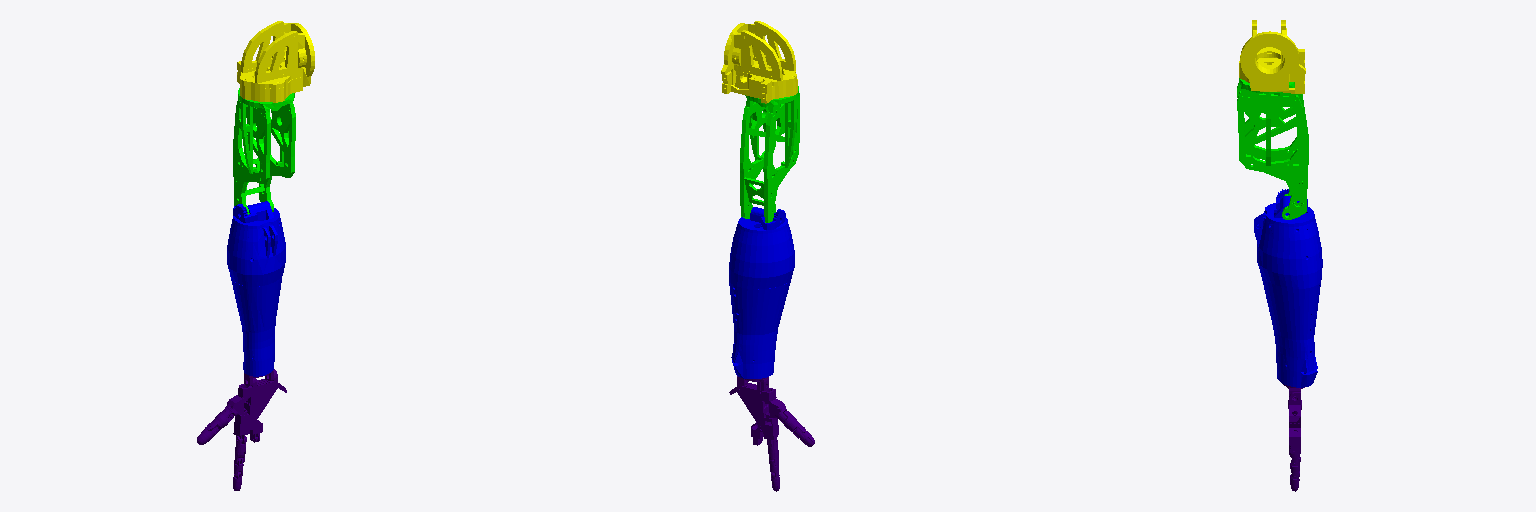
The robot description file, URDF, robot "inmoov_v1":
<?xml version="1.0"?>
<robot name="inmoov_v1">
  <!--  -->

  <!-- Materials -->
  <material name="red">
    <color rgba="1 0 0 .8"/>
  </material>
  <material name="orange">
    <color rgba="1 .5 0 .8"/>
  </material>
  <material name="yellow">
    <color rgba="1 1 0 .8"/>
  </material>
  <material name="green">
    <color rgba="0 1 0 .8"/>
  </material>
  <material name="blue">
    <color rgba="0 0 1 .8"/>
  </material>
  <material name="indigo">
    <color rgba=".294 0 .510 .8"/>
  </material>
  <material name="violet">
    <color rgba=".561 0 1 .8"/>
  </material>
  <!-- Variables  -->
  <property name="pi" value="3.1415926"/>  
  <property name="pi" value="3.1415926"/> 
  <property name="mesh_scale" value=".001"/>  
  <!-- Body Parts -->
  <!-- Base -->
  <link name="base_link">
    <visual>
      <origin rpy="0 0 0" xyz="0 0 0"/>
      <geometry>
        <mesh filename="package://robohand/meshes/Inmoov_Baselink_02.STL" 
         scale=".001 .001 .001"/>
      </geometry>
      <material name="red"/>
    </visual>
    <collision>
      <geometry>
        <box size=".4 .1 .1"/>
      </geometry>
    </collision>
  </link>
  <!-- 1st shoulder part - up/down -->
  <link name="shoulder_a_link">
    <visual>
      <origin rpy="0 0 0" xyz="0 0 0"/>
      <geometry>
        <!--<box size=".05 .1 .1"/>-->
        <mesh filename="package://robohand/meshes/Inmoov_ShoulderA_02.STL" 
         scale=".001 .001 .001"/>
      </geometry>      
      <material name="orange"/>
    </visual>
    <collision>
      <geometry>
        <box size=".045 .095 .095"/>
      </geometry>
    </collision>
  </link>
  <joint name="arm_out_joint" type="revolute">
    <axis xyz="0 1 0"/>
    <origin rpy="0 0 0" xyz="0 0 0"/>
    <limit effort="1000.0" lower="0.0" upper="1.57" velocity="0.5"/>
    <parent link="base_link"/>
    <child link="shoulder_a_link"/>
  </joint>
  <!-- 2nd shoulder part - fwd/back -->
  <link name="shoulder_b_link">
    <visual>
      <origin rpy="0 0 0" xyz="0 0 0"/>
      <geometry>
        <!--<box size=".1 .1 .1"/>-->
        <mesh filename="package://robohand/meshes/Inmoov_ShoulderB_02.STL" 
         scale=".001 .001 .001"/>
      </geometry>      
      <material name="yellow"/>
    </visual>
    <collision>
      <geometry>
        <box size=".095 .095 .095"/>
      </geometry>
    </collision>
  </link>
  <joint name="arm_fwd_joint" type="revolute">
    <axis xyz="-1 0 0"/>
    <origin rpy="0 0 0" xyz="0 0 0"/>
    <limit effort="1000.0" lower="0.0" upper="1.57" velocity="0.5"/>
    <parent link="shoulder_a_link"/>
    <child link="shoulder_b_link"/>
  </joint>
  <!-- biceps -->
  <link name="biceps_link">
    <visual>
      <origin rpy="0 0 0" xyz=".0775382 .00106347 .0976646"/>
      <geometry>        
        <!--<cylinder length="0.3" radius="0.05"/>-->
        <mesh filename="package://robohand/meshes/Inmoov_Biceps_02.STL" 
         scale=".001 .001 .001"/>
      </geometry>      
      <material name="green"/>
    </visual>
    <collision>
      <geometry>        
        <cylinder length="0.295" radius="0.05"/>
      </geometry>
    </collision>
  </link>
  <joint name="arm_rotate_joint" type="revolute">
    <axis xyz="0 0 1"/>
    <origin rpy="0 0 0" xyz="-.0775382 -.00106347 -.0976646"/>
    <limit effort="1000.0" lower="-1.57" upper="1.57" velocity="0.5"/>
    <parent link="shoulder_b_link"/>
    <child link="biceps_link"/>
  </joint>
 <!-- forearm -->
  <link name="forearm_link">
    <visual>
      <origin rpy="0 0 0" xyz=".078261 -.027094 .322299"/>
      <geometry>
        <!--<cylinder length="0.3" radius="0.05"/>-->
        <mesh filename="package://robohand/meshes/Inmoov_Forearm_02.STL" 
         scale=".001 .001 .001"/>
      </geometry>      
      <material name="blue"/>
    </visual>
    <collision>
      <origin rpy="0 0 0" xyz="0 0 0"/>
      <geometry>
        <cylinder length="0.245" radius="0.05"/>
      </geometry>
    </collision>
  </link>
  <joint name="elbow_joint" type="revolute">
    <axis xyz="-1 0 0"/>
    <origin rpy="0 0 0" xyz="-.0007228 .02815747 -.2246344"/>
    <limit effort="1000.0" lower="0.0" upper="1.57" velocity="0.5"/>
    <parent link="biceps_link"/>
    <child link="forearm_link"/>
  </joint>
  <!-- wrist -->
  <link name="wrist_link">
    <visual>
      <!--origin rpy="0 0 0" xyz="-.068289 .03942 -.611017"/-->
      <origin rpy="0 0 0" xyz=".068289 -.03942 .611017"/>
      <geometry>        
        <!--cylinder length="0.05" radius="0.05"/-->
        <mesh filename="package://robohand/meshes/Inmoov_Hand_01.STL" 
         scale=".001 .001 .001"/>
      </geometry>      
      <material name="indigo"/>
    </visual>
    <collision>
      <geometry>        
        <cylinder length="0.045" radius="0.05"/>
      </geometry>     
    </collision>
  </link>
  <joint name="wrist_joint" type="revolute">
    <axis xyz="0 0 1"/>
    <origin rpy="0 0 0" xyz=".009972 .012326 -.288718"/>
    <limit effort="1000.0" lower="0" upper="3.14" velocity="0.5"/>
    <parent link="forearm_link"/>
    <child link="wrist_link"/>
  </joint>
</robot>

--- What the picture shows (computed from the rendered views, not written in the file) ---
3 views of the same robot in one strip: view 1: azimuth 30°, elevation 25°; view 2: azimuth 150°, elevation 25°; view 3: azimuth 270°, elevation 25° (orthographic).
Model inmoov_v1 with 6 links and 5 joints (5 revolute), rooted at base_link, posed every joint at zero.
Visible links, largest first — view 1: forearm_link, biceps_link, shoulder_b_link, wrist_link; view 2: forearm_link, biceps_link, shoulder_b_link, wrist_link; view 3: forearm_link, biceps_link, shoulder_b_link, wrist_link.
Boxes of the visible links, left/top/right/bottom form: forearm_link: left=227, top=201, right=285, bottom=376; biceps_link: left=233, top=88, right=295, bottom=214; shoulder_b_link: left=237, top=21, right=314, bottom=102; wrist_link: left=197, top=369, right=286, bottom=490; forearm_link: left=729, top=207, right=794, bottom=378; biceps_link: left=740, top=86, right=799, bottom=222; shoulder_b_link: left=721, top=21, right=797, bottom=103; wrist_link: left=729, top=376, right=814, bottom=491; forearm_link: left=1254, top=189, right=1322, bottom=387; biceps_link: left=1237, top=78, right=1308, bottom=219; shoulder_b_link: left=1239, top=20, right=1305, bottom=93; wrist_link: left=1283, top=384, right=1304, bottom=491.
Bounding box of the posed robot: 0.1722 × 0.1326 × 0.8297 m (x, y, z).
4 mesh visuals loaded from 6 distinct referenced files (4 binary STL); not drawn: 2 (reference not matched to a file when rendering).